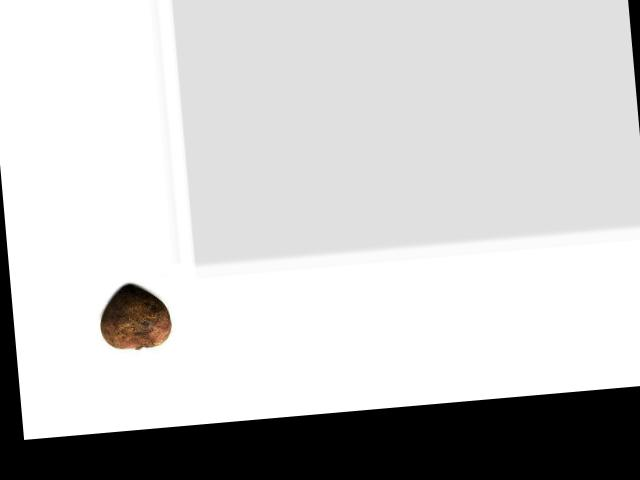beet: (97, 281, 173, 351)
